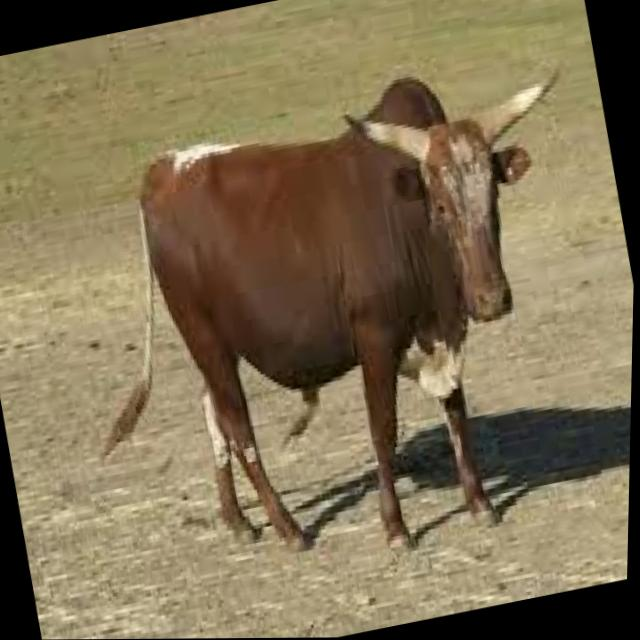cowFace: (321, 39, 623, 381)
